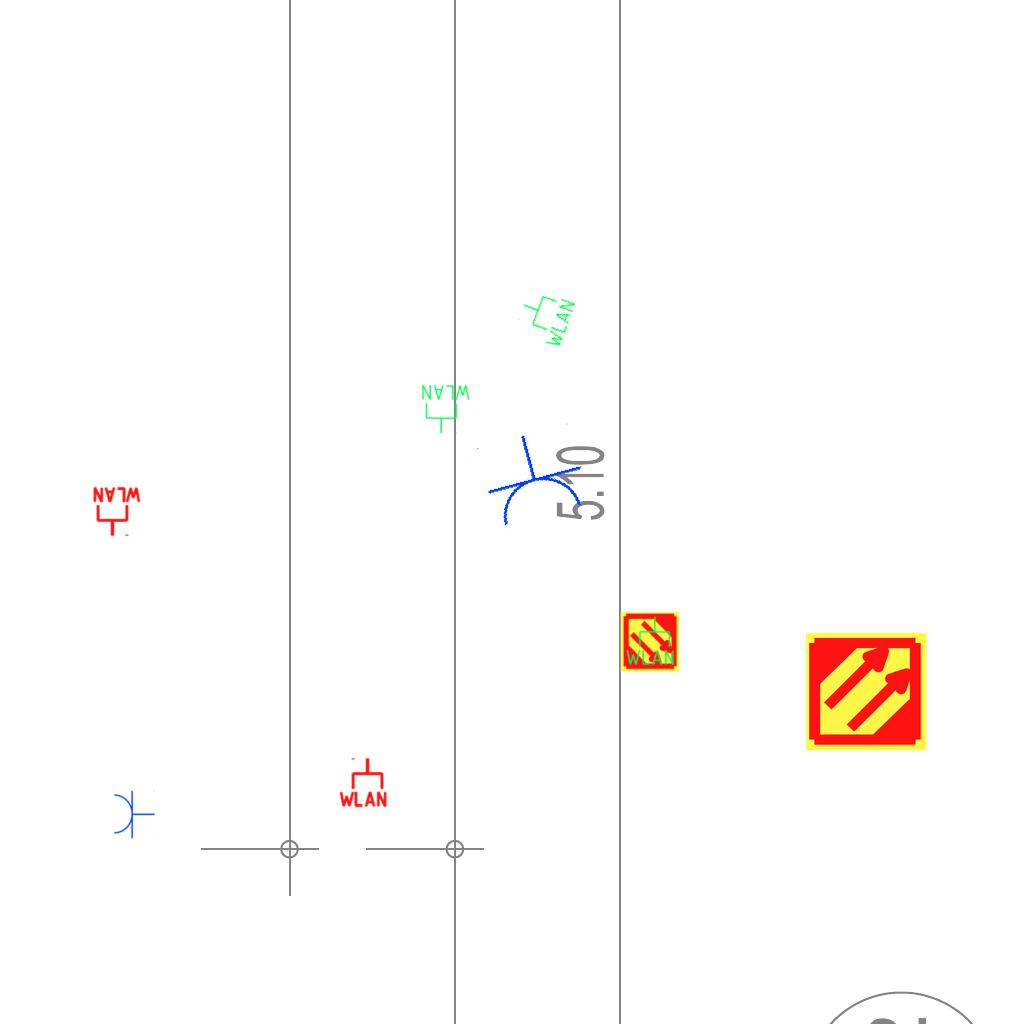ASR_Ansaugrauchmelder: (804, 629, 929, 754), (619, 611, 681, 673)
Schukosteckdose_einfach: (473, 422, 593, 533), (112, 789, 155, 839)
WLAN: (511, 284, 579, 352), (91, 486, 143, 538), (420, 383, 472, 435), (337, 756, 389, 808), (624, 615, 676, 667)
